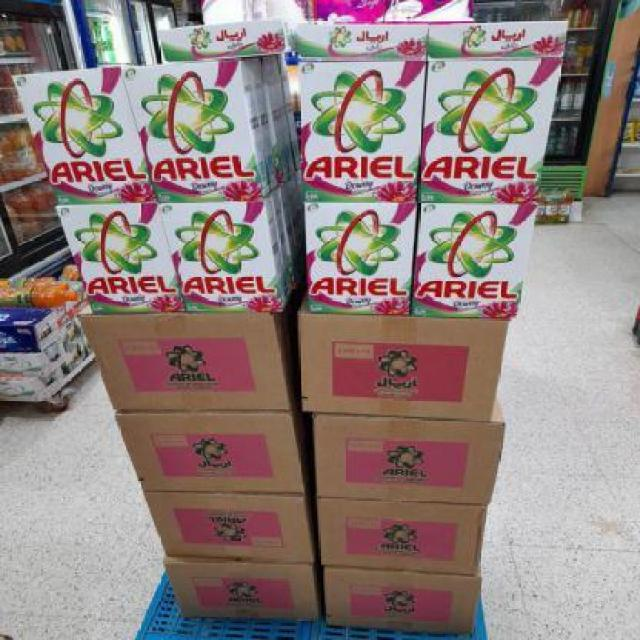Detergent: (418, 54, 564, 203), (292, 54, 425, 204), (125, 62, 270, 198), (39, 67, 152, 204), (412, 200, 545, 312), (165, 198, 286, 312), (170, 200, 290, 312), (298, 207, 416, 318), (66, 205, 171, 317), (425, 17, 570, 60), (289, 22, 433, 62), (142, 18, 288, 56)
